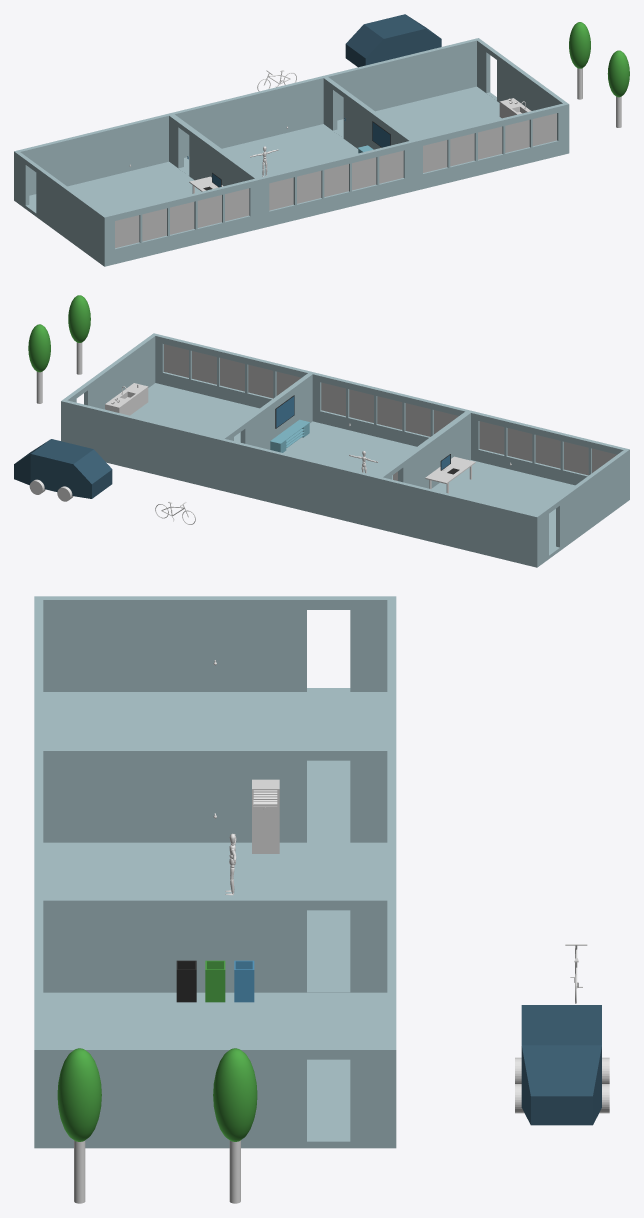
Rendered from BasicScene.fbx.
3 views of the same model, one above another, from view 1: azimuth 30°, elevation 25°; view 2: azimuth 150°, elevation 25°; view 3: azimuth 270°, elevation 25° (orthographic). The views are drawn at different scales.
Parts seen in each view (by area): view 1: Boole_1_6, Boole_1_4, Boole_1_5, Cube_1, Sphere, Sphere_2, WINDWO_3, WINDWO, WINDWO_2_2, WINDWO_4_3, WINDWO_1_3, WINDWO_1 (+9 smaller); view 2: Boole_1_6, Boole_1_5, Boole_1_4, Cube_1, Sphere_2, Sphere, Cube_2, WINDWO_3_2, WINDWO_3_4, WINDWO_3, WINDWO_2_2, WINDWO_2_4 (+9 smaller); view 3: Boole_1_4, Boole_1_6, Boole_1_5, Cube_1, Sphere, Sphere_2, Cube_4_2, Trash_Bin_2, Trash_Bin, Trash_Bin_1.
Part boxes in pixels (x1,y1,x2,y2): Boole_1_6: (14,113,261,266); Boole_1_4: (325,38,569,191); Boole_1_5: (171,75,414,228); Cube_1: (345,14,441,67); Sphere: (607,50,629,97); Sphere_2: (569,22,590,68); WINDWO_3: (450,133,474,166); WINDWO: (532,113,556,146); WINDWO_2_2: (324,164,348,196); WINDWO_4_3: (115,215,139,248); WINDWO_1_3: (197,195,221,227); WINDWO_1: (505,120,529,152); Boole_1_6: (376,410,629,567); Boole_1_5: (218,372,468,528); Boole_1_4: (61,333,313,489); Cube_1: (14,439,112,498); Sphere_2: (28,324,50,372); Sphere: (68,295,90,342); Cube_2: (105,383,148,415); WINDWO_3_2: (405,403,430,436); WINDWO_3_4: (479,421,504,454); WINDWO_3: (248,364,273,398); WINDWO_2_2: (377,396,402,429); WINDWO_2_4: (535,435,560,468); Boole_1_4: (34,897,396,1148); Boole_1_6: (34,596,396,840); Boole_1_5: (34,747,396,991); Cube_1: (521,1005,601,1125); Sphere: (57,1048,101,1141); Sphere_2: (213,1048,257,1141); Cube_4_2: (252,779,279,853); Trash_Bin_2: (234,960,254,1002); Trash_Bin: (176,960,196,1002); Trash_Bin_1: (205,960,225,1002).
Bounding box in the file's own units: 3414 × 483 × 1589.
